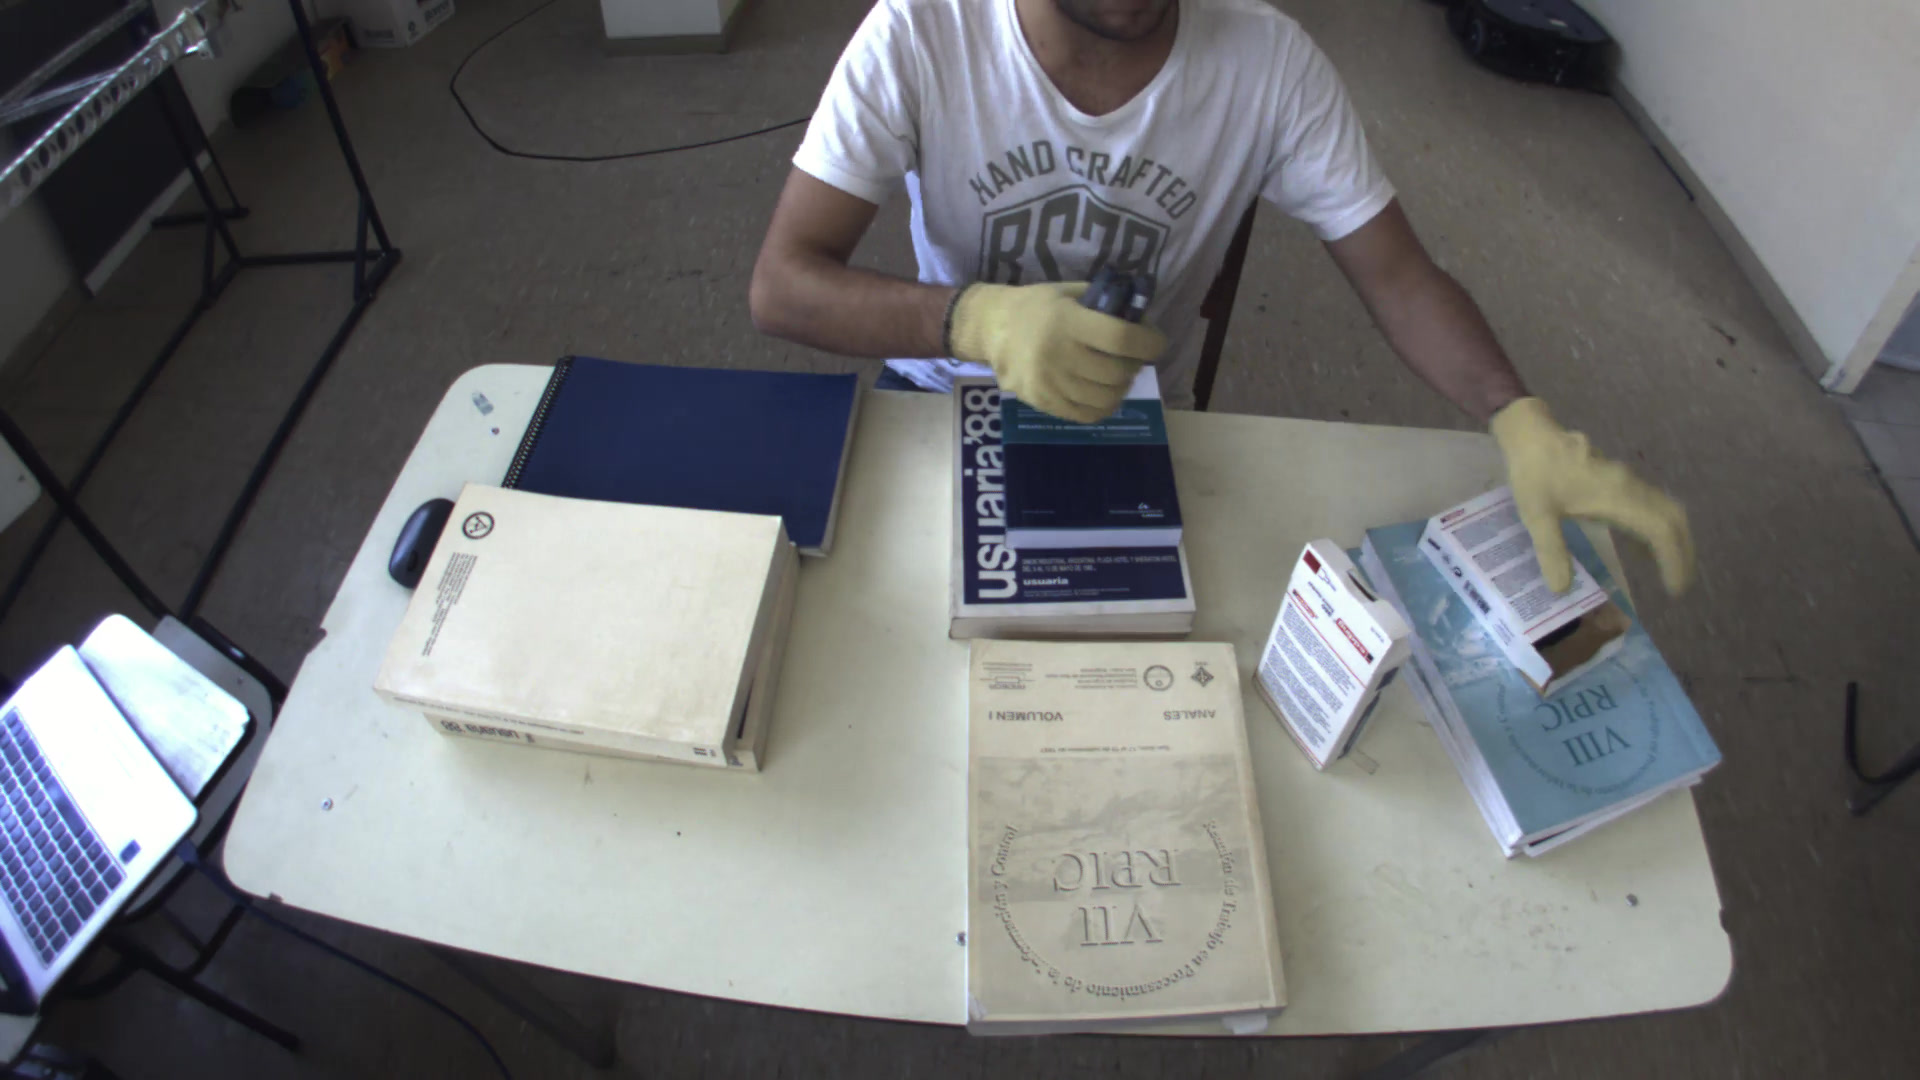hand: (1481, 392, 1705, 599), (943, 258, 1180, 433)
